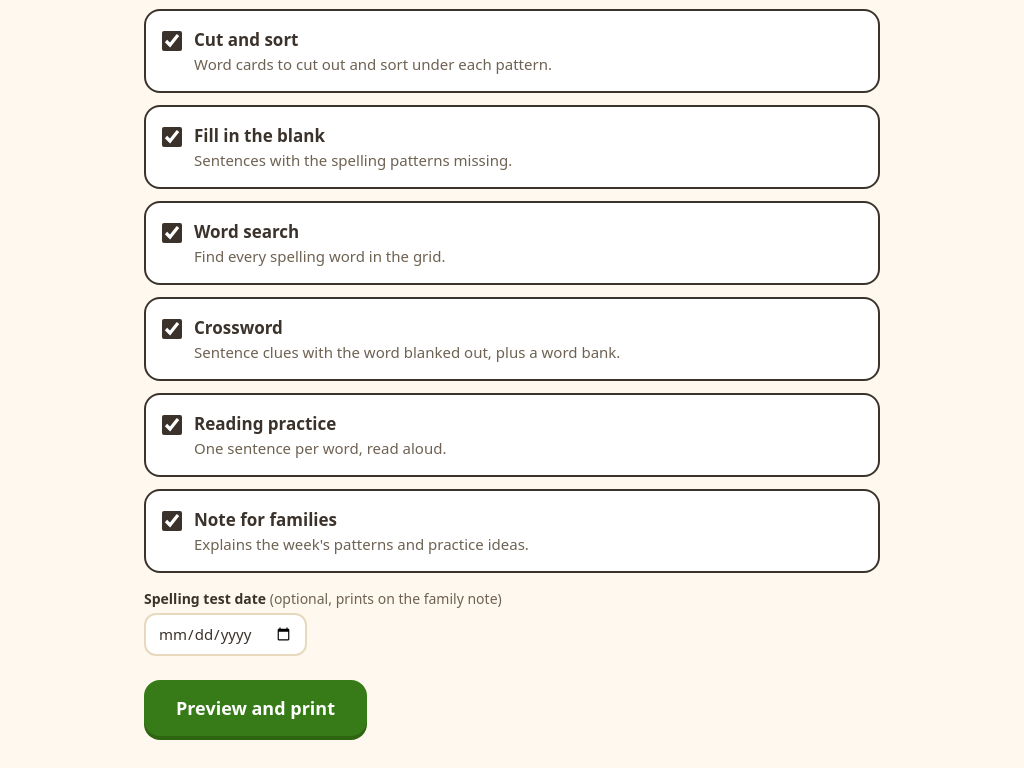
Test case: WorksheetPicker › shows the test date field only while the family note is selected
(page scrolled)
Expected: the date field labelled "Spelling test date (optional, prints on the family note)" is shown, [144, 613, 307, 656]
Click the checkbox labelled "Note for families".
click(172, 521)  # box [162, 511, 182, 531]
(page scrolled)
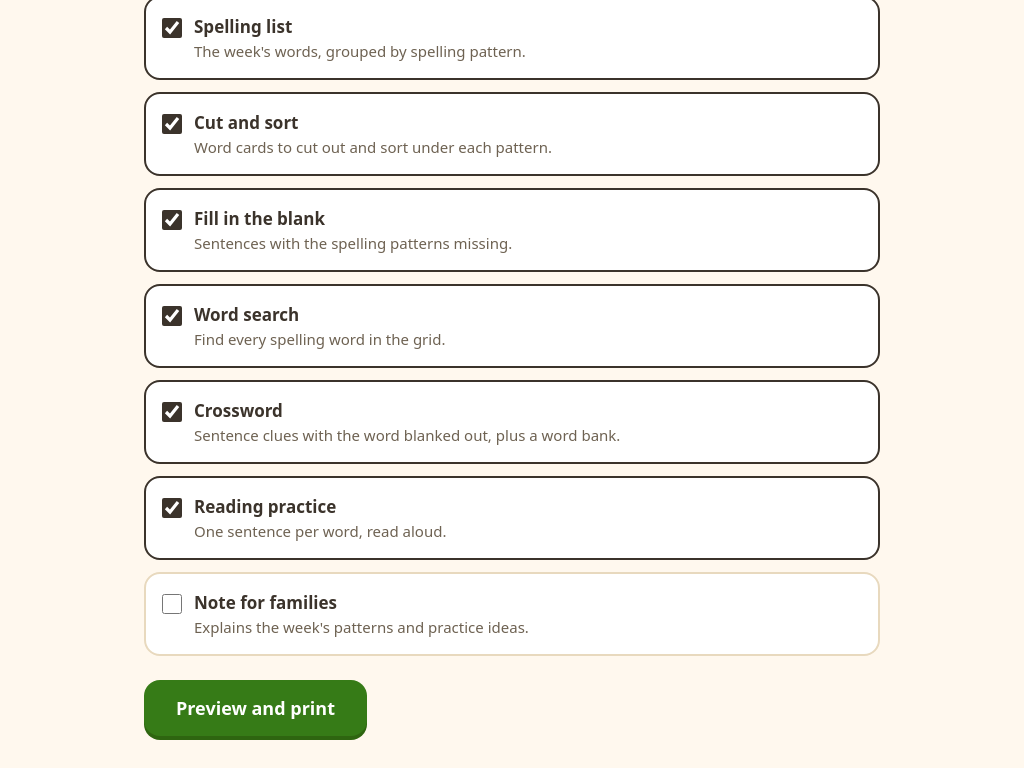
Expected: the label labelled "Spelling test date" is gone
